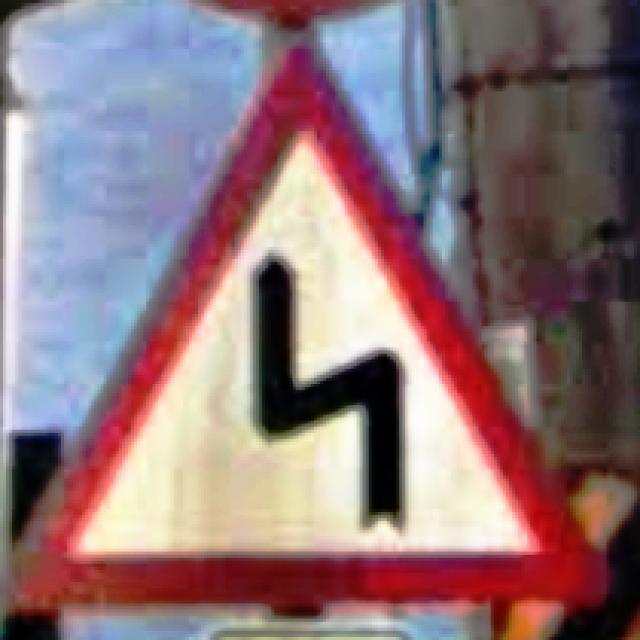doublebendleft: (6, 49, 606, 613)
